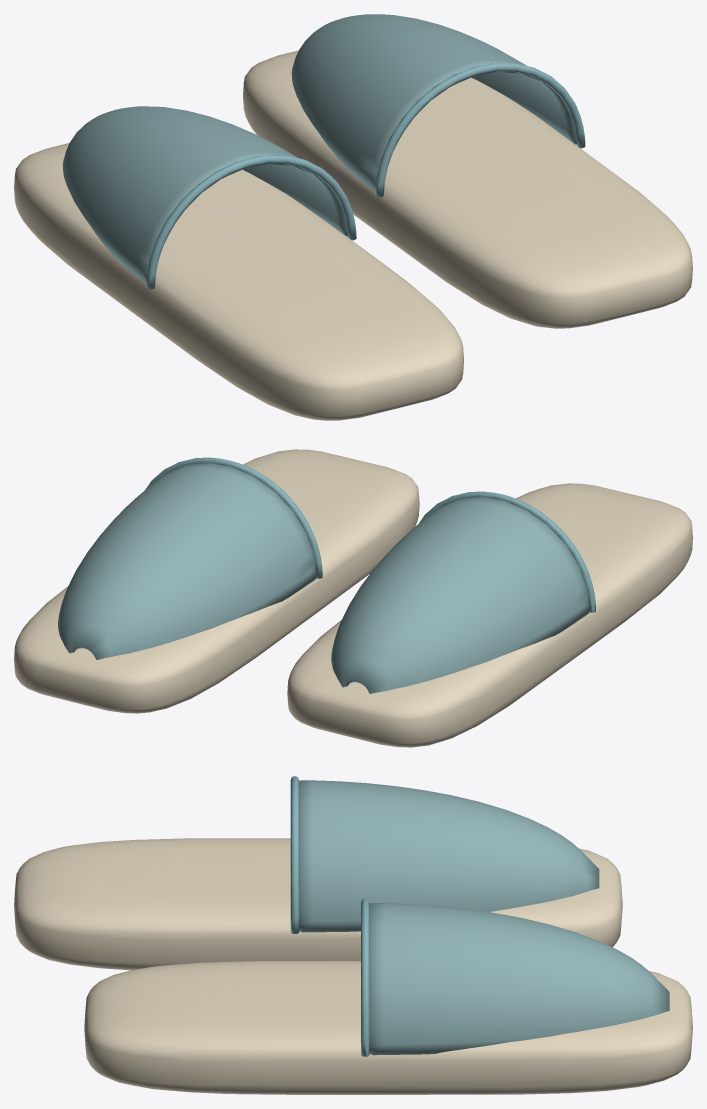
The model's file is Slippers.glb.
3 views of the same model, one above another, from view 1: azimuth 30°, elevation 25°; view 2: azimuth 150°, elevation 25°; view 3: azimuth 270°, elevation 25° (orthographic). The views are drawn at different scales.
Parts seen in each view (by area): view 1: Slippers_Mesh; view 2: Slippers_Mesh; view 3: Slippers_Mesh.
Boxes of the visible parts, <box> form: Slippers_Mesh: <box>14,14,692,420</box>; Slippers_Mesh: <box>14,449,692,747</box>; Slippers_Mesh: <box>14,776,692,1094</box>.
Bounding box in the file's own units: 0.2216 × 0.0708 × 0.29.
